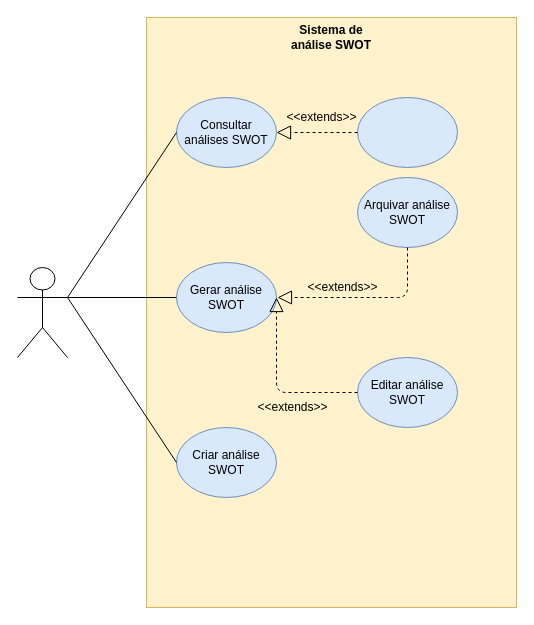
This 534x625 diagram has some shape labels left out. The shapes that lost their labels are listed below. From the top down, each one's centre as x and y in pixels, then its label:
At pixel 407 132: "Exportar análises SWOT".
At pixel 42 312: "Utilizador".
